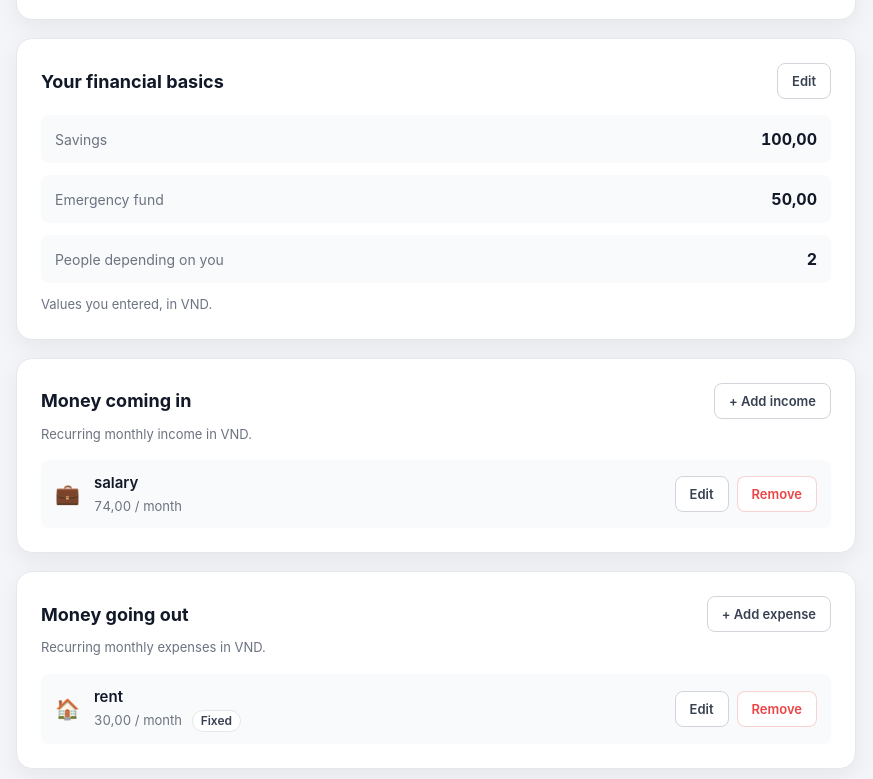
Test: ProfileView › surfaces the server error text for a rejected mutation instead of leaving it unhandled
(page scrolled)
Step 1. Click the button "+ Add income" → (772, 400), box [714,382,831,418]
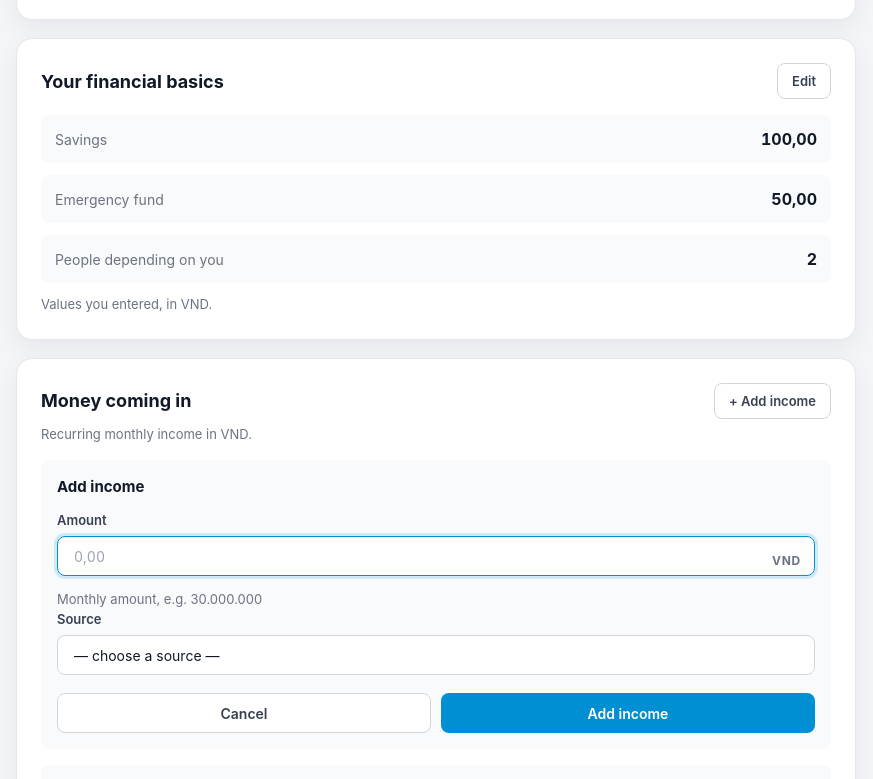
Step 2. Type "0,10" into the field with id "income-amount" → (436, 556), box [57,536,815,576]
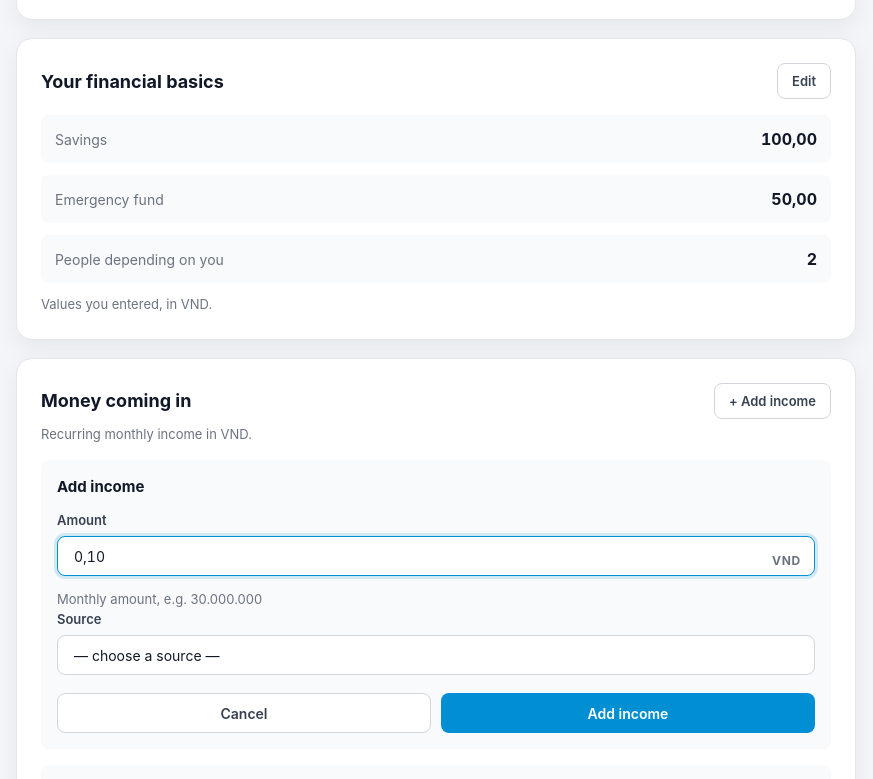
Step 3. Select "Investment / interest / dividend" in the dropdown with id "income-source" → (436, 655), box [57,635,815,675]
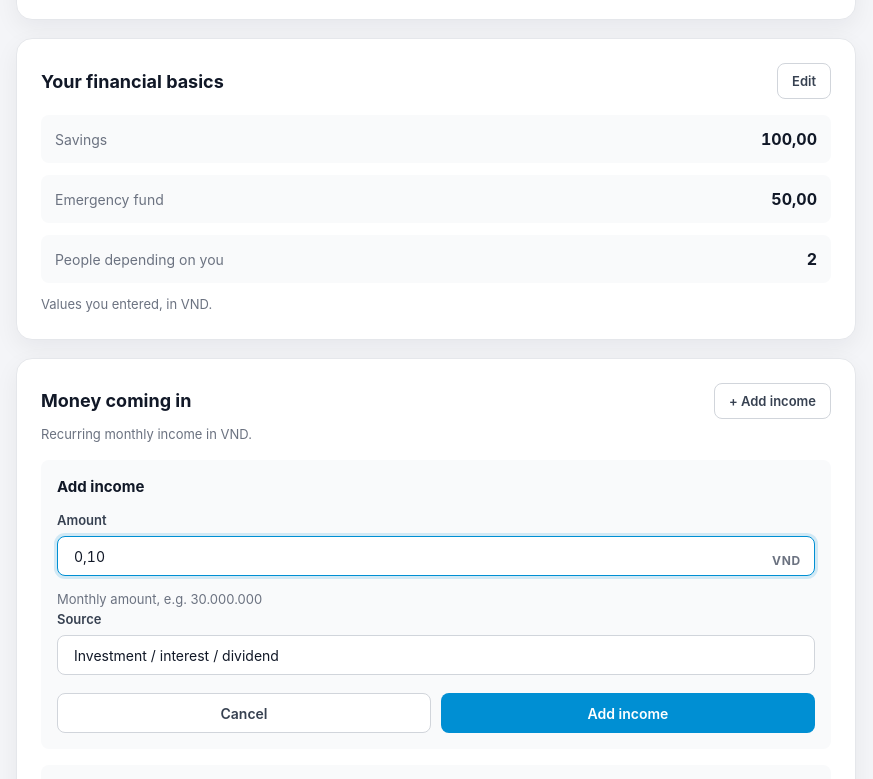
Step 4. Click the button "Add income" → (628, 713), box [441,693,815,733]
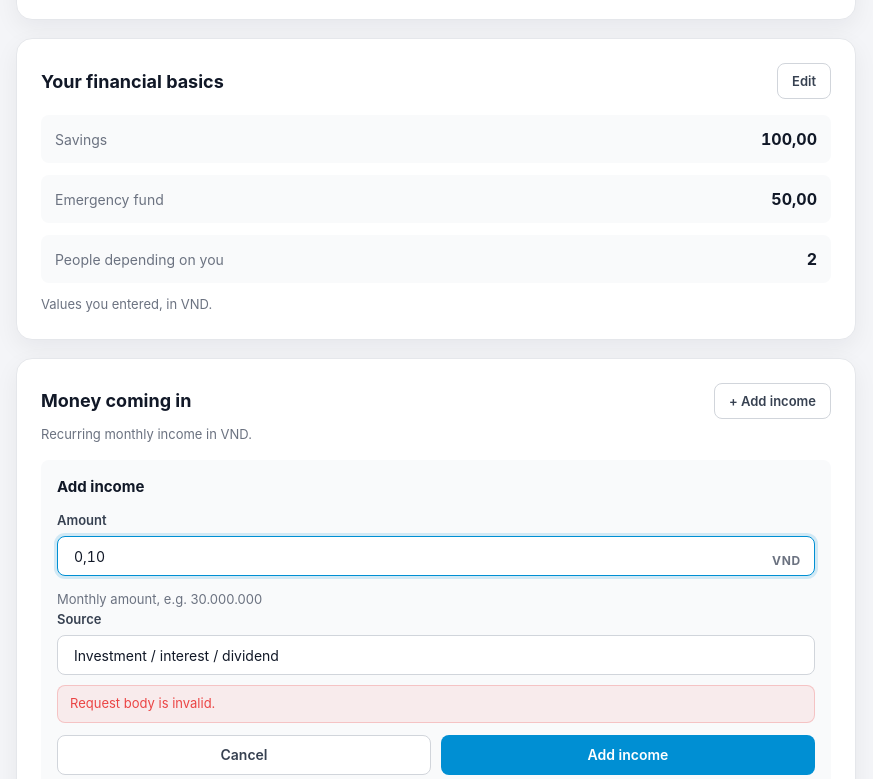
Now the text "Request body is invalid." is shown, box [57,685,815,722]
